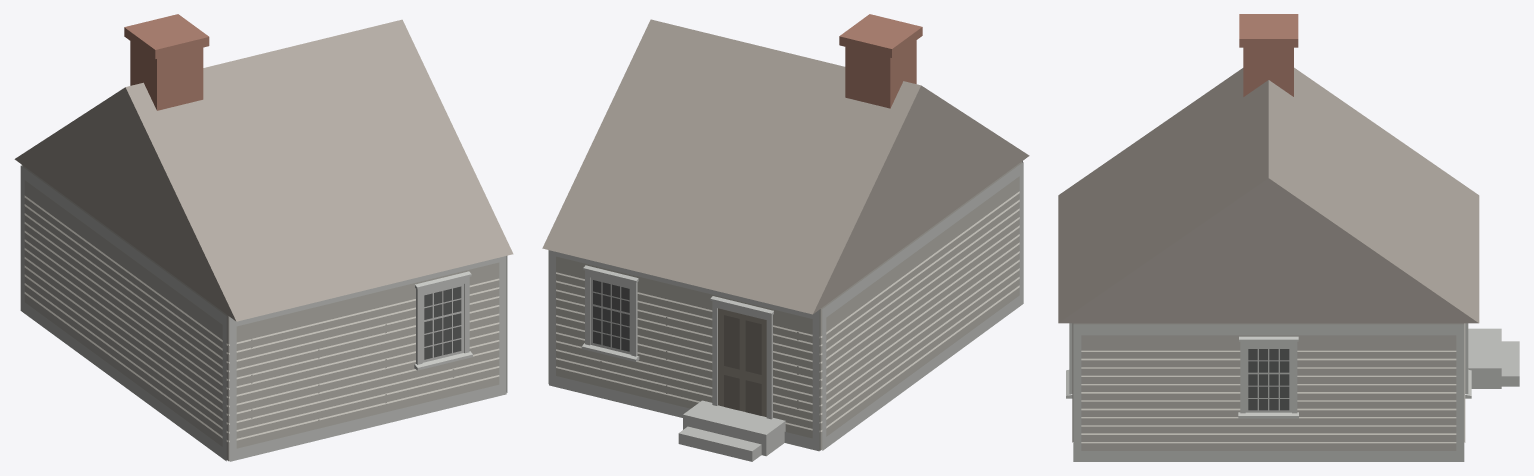
Rendered from recon_1835_blk_south_water_lasalle_d3_06__inferred_1835.glb.
3 views of the same model, side by side, from view 1: azimuth 30°, elevation 25°; view 2: azimuth 150°, elevation 25°; view 3: azimuth 270°, elevation 25° (orthographic). The views are drawn at different scales.
Parts seen in each view (by area): view 1: recon_1835_blk_south_water_lasalle_d3_06__inferred_1835; view 2: recon_1835_blk_south_water_lasalle_d3_06__inferred_1835; view 3: recon_1835_blk_south_water_lasalle_d3_06__inferred_1835.
Boxes of the visible parts, left/top/right/bottom form: recon_1835_blk_south_water_lasalle_d3_06__inferred_1835: left=14, top=14, right=513, bottom=461; recon_1835_blk_south_water_lasalle_d3_06__inferred_1835: left=542, top=14, right=1029, bottom=461; recon_1835_blk_south_water_lasalle_d3_06__inferred_1835: left=1058, top=14, right=1519, bottom=461.
Bounding box in the file's own units: 5.18 × 5.96 × 7.65.
